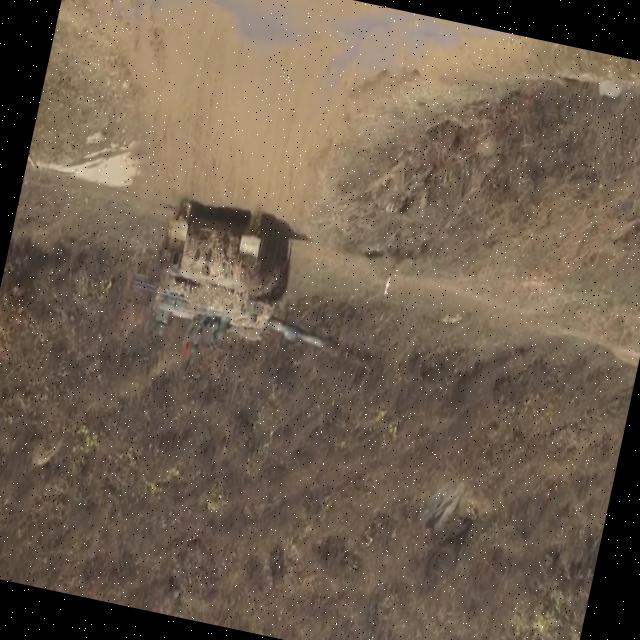korea tank: (114, 187, 399, 395)
